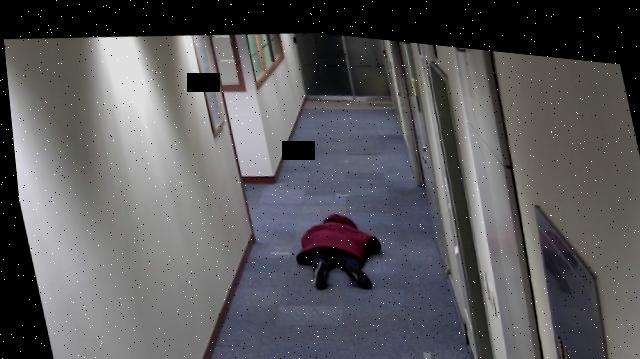fall: (281, 195, 387, 289)
